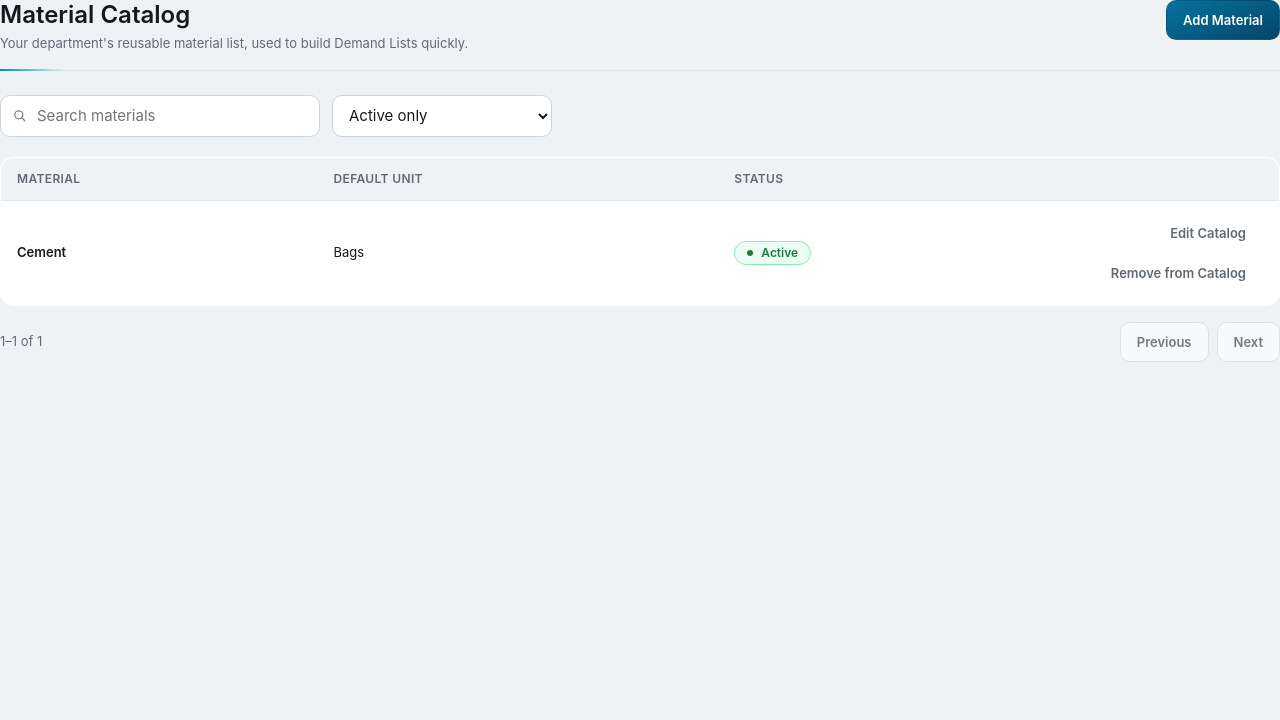
Test case: Material catalog removal / restore lifecycle › a failed archive reports the server's reason instead of failing silently
Click the button "Remove from Catalog" at (1178, 272), box [1094,252,1263,292]
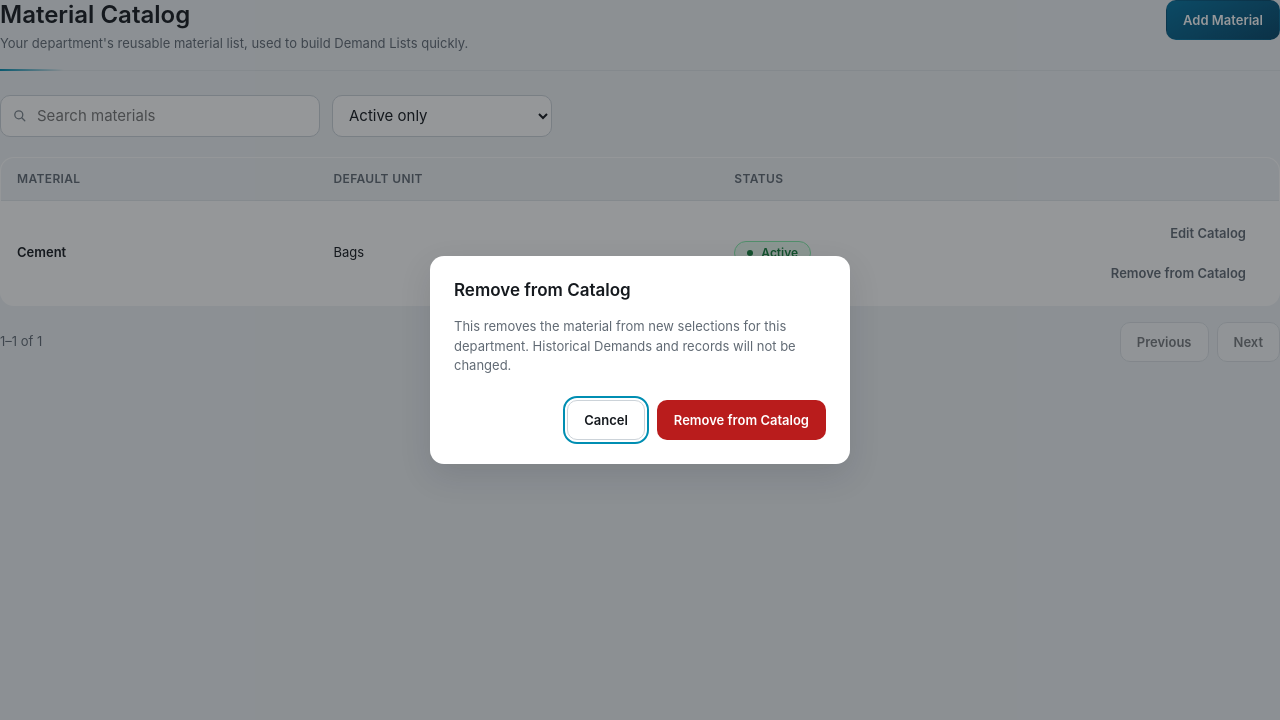
Click the button "Remove from Catalog" at (741, 420), box [657,400,826,440]
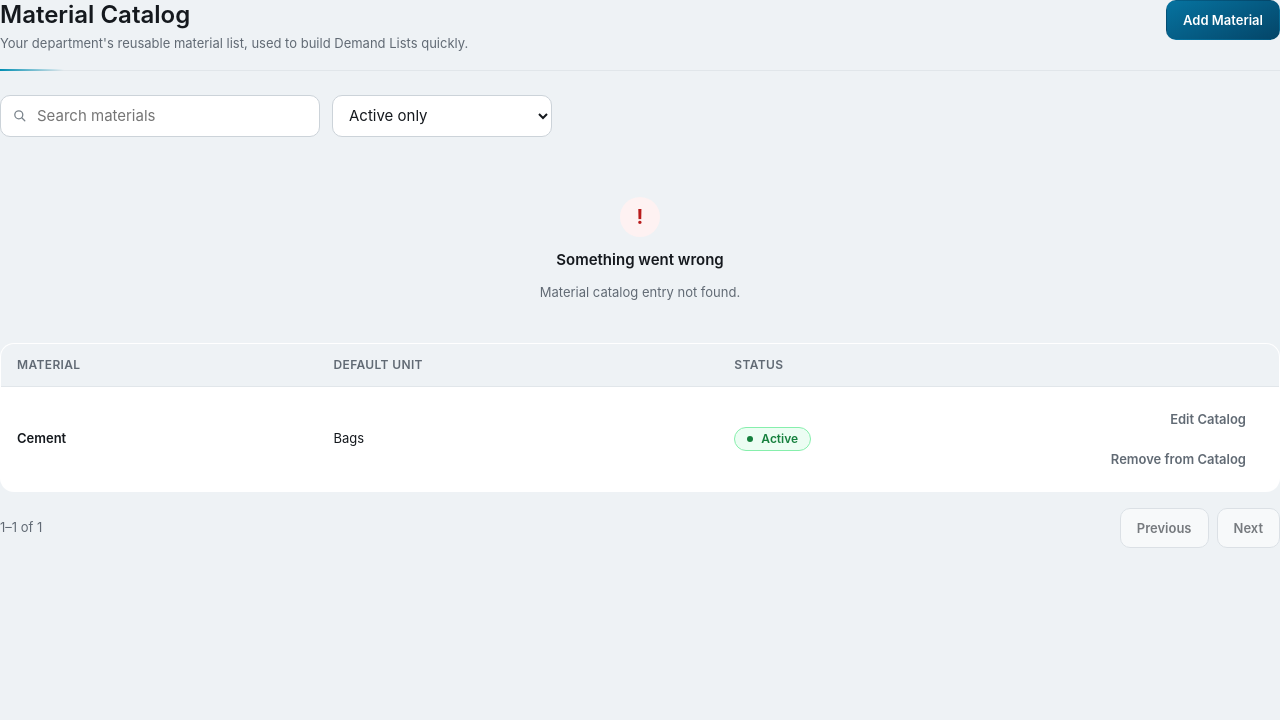
Expected: the text "Material catalog entry not found." is shown, [540,283,740,302]
